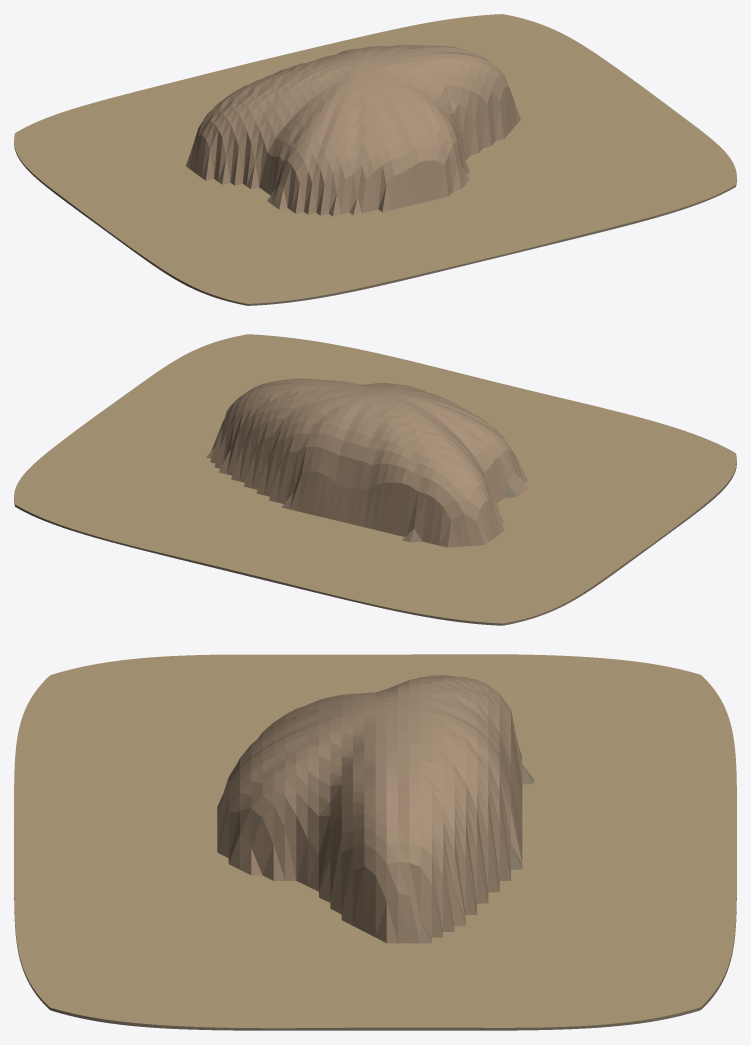
3 views of the same model, one above another, from view 1: azimuth 30°, elevation 25°; view 2: azimuth 150°, elevation 25°; view 3: azimuth 270°, elevation 25° (orthographic). The views are drawn at different scales.
Visible parts, largest first — view 1: isolated_rounded_asymmetric_residual_rock_hill_surrounded_lo; view 2: isolated_rounded_asymmetric_residual_rock_hill_surrounded_lo; view 3: isolated_rounded_asymmetric_residual_rock_hill_surrounded_lo.
Boxes of the visible parts, x1,y1,x2,y2 form: isolated_rounded_asymmetric_residual_rock_hill_surrounded_lo: (14,14,736,305); isolated_rounded_asymmetric_residual_rock_hill_surrounded_lo: (14,334,736,625); isolated_rounded_asymmetric_residual_rock_hill_surrounded_lo: (14,654,736,1030).
Size of the model in its own units: 1100 by 182 by 900.
